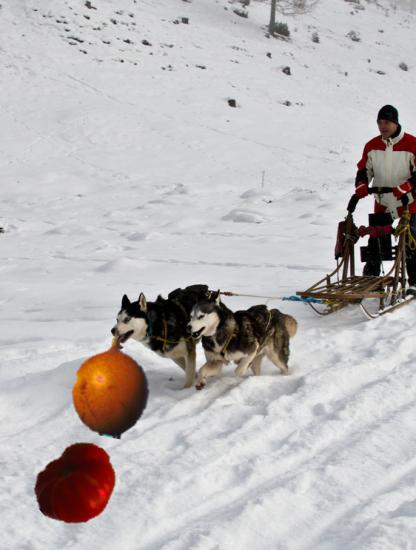Granadilla: (59, 329, 167, 437)
Tomato: (33, 442, 122, 531)
